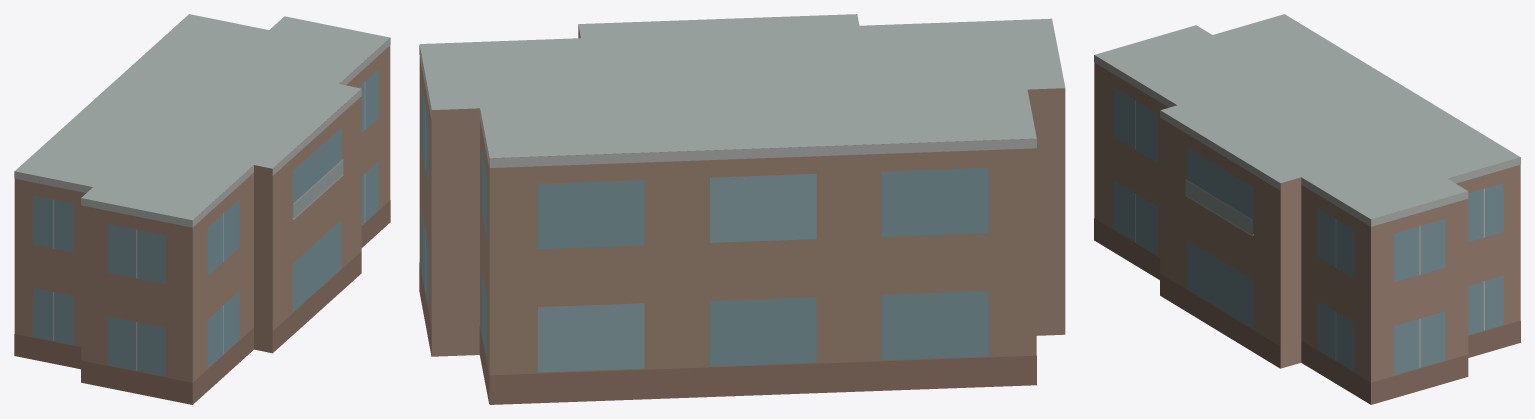
File: survey-upis-33001730.glb
The picture shows the model from 3 angles, left to right: view 1: azimuth 30°, elevation 25°; view 2: azimuth 150°, elevation 25°; view 3: azimuth 270°, elevation 25°; orthographic projection. The views are drawn at different scales.
Parts seen in each view (by area): view 1: survey-upis-33001730.tmp; view 2: survey-upis-33001730.tmp; view 3: survey-upis-33001730.tmp.
Part boxes in pixels (bbox=[...]): survey-upis-33001730.tmp: bbox=[14, 14, 390, 404]; survey-upis-33001730.tmp: bbox=[419, 14, 1065, 404]; survey-upis-33001730.tmp: bbox=[1094, 14, 1520, 404].
Bounding box in the file's own units: 14.5 × 6.1 × 12.72.
